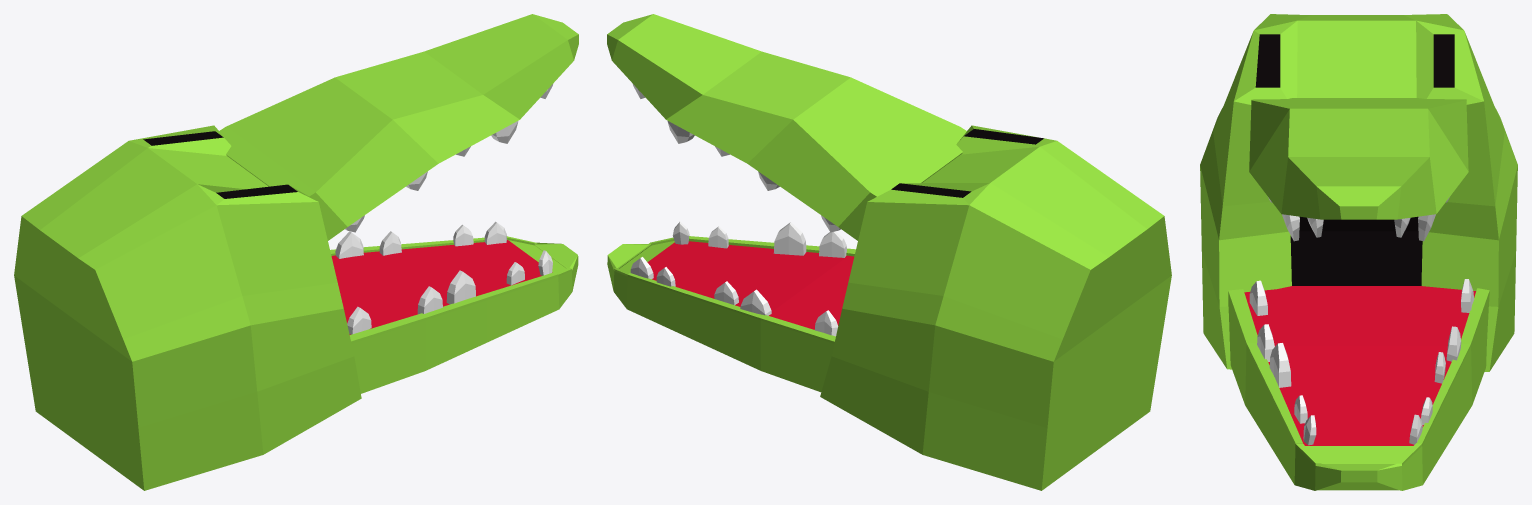
The model's file is Alligator.fbx.
The picture shows the model from 3 angles, left to right: view 1: azimuth 30°, elevation 25°; view 2: azimuth 150°, elevation 25°; view 3: azimuth 270°, elevation 25°; orthographic projection. The views are drawn at different scales.
Visible parts, largest first — view 1: Head, Upper Mouth, Lower Mouth; view 2: Head, Upper Mouth, Lower Mouth; view 3: Head, Lower Mouth, Upper Mouth.
Boxes of the visible parts, box(x1,y1,x2,y2) form: Head: box(14, 125, 361, 490); Upper Mouth: box(218, 14, 578, 240); Lower Mouth: box(330, 221, 578, 393); Head: box(820, 125, 1171, 490); Upper Mouth: box(607, 14, 966, 240); Lower Mouth: box(607, 221, 855, 392); Head: box(1200, 14, 1517, 371); Lower Mouth: box(1228, 279, 1489, 490); Upper Mouth: box(1249, 98, 1468, 241).
Size of the model in its own units: 468 by 272 by 210.
